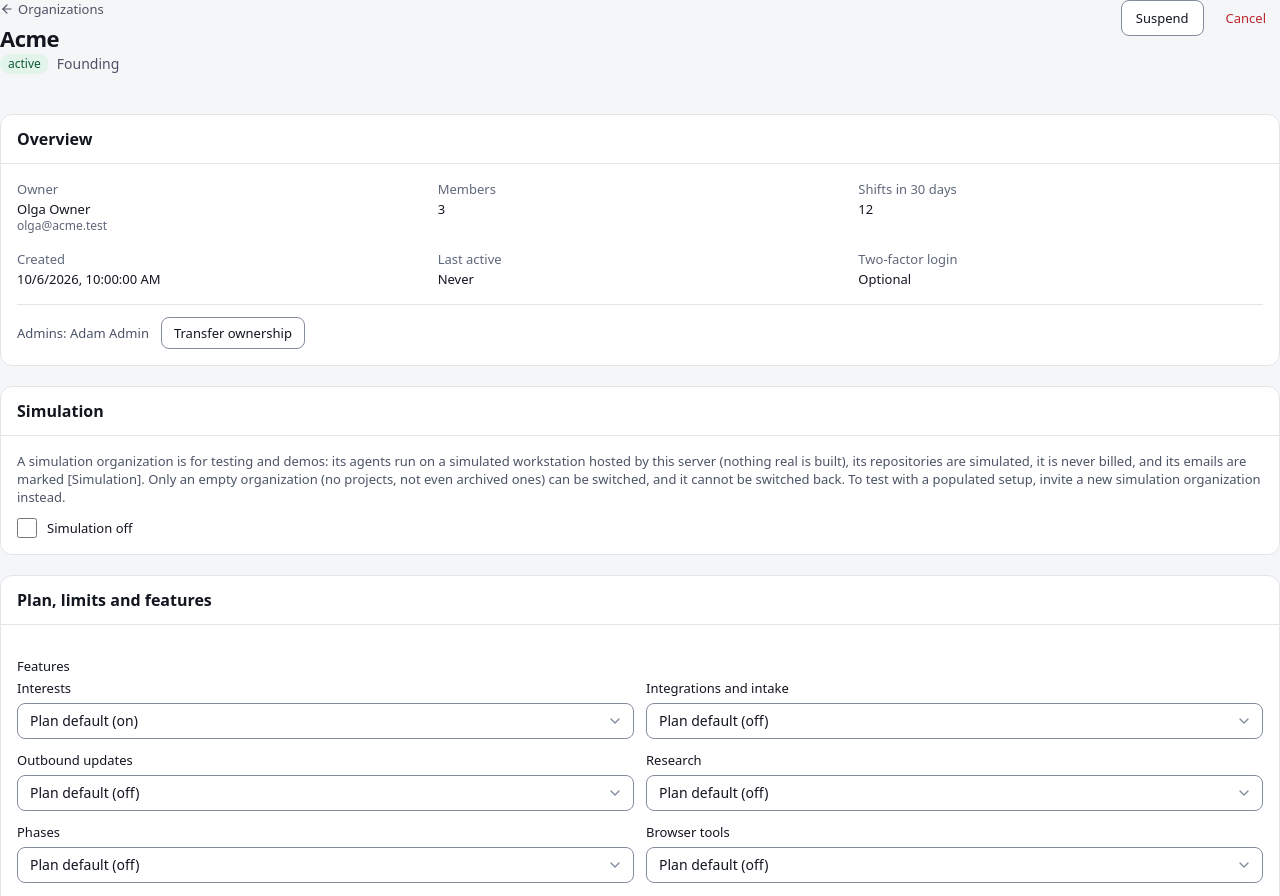
platform area › suspends an organization only with a reason
Step 1. Click the button "Suspend" → click(1162, 18), box x1=1121 y1=0 x2=1204 y2=36
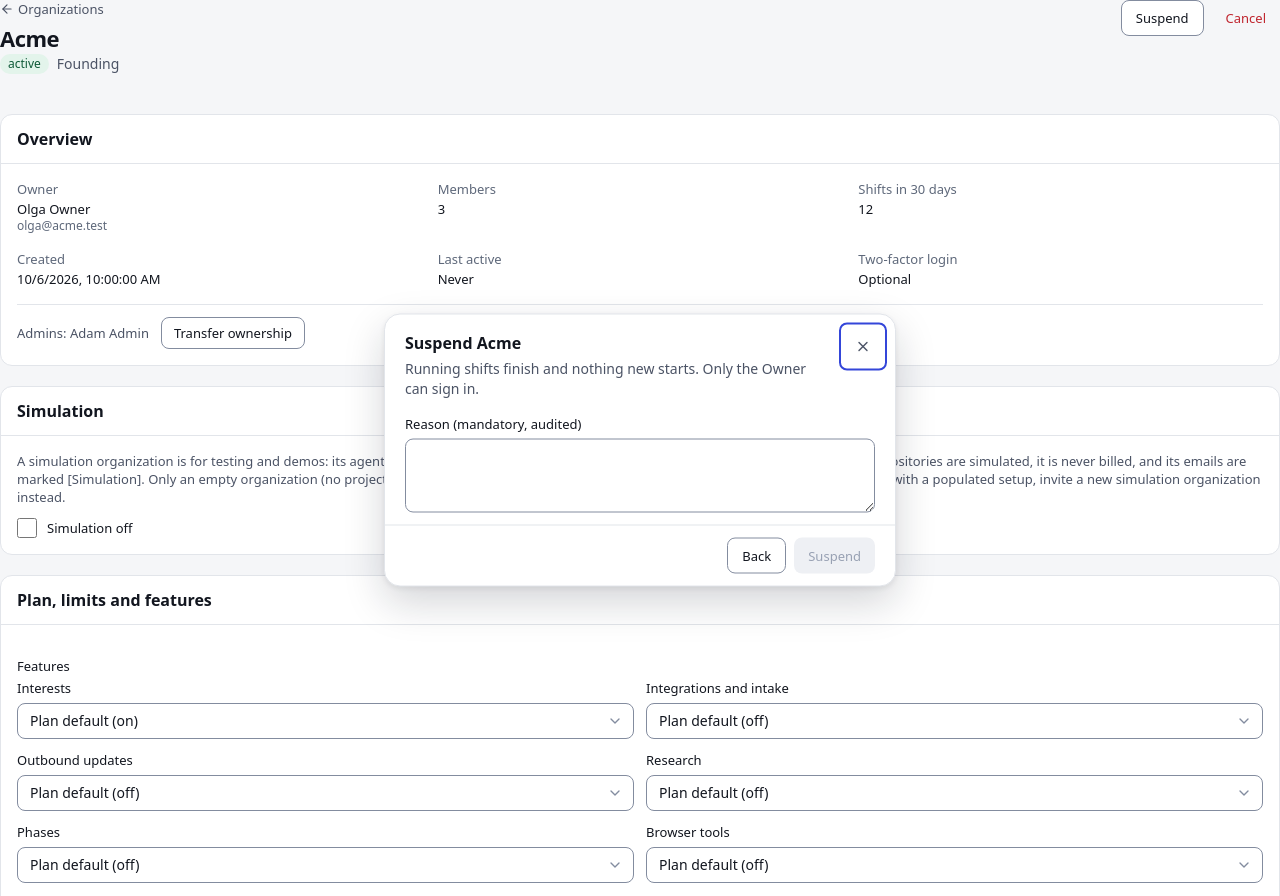
Now the button "Suspend" is disabled, box x1=794 y1=538 x2=875 y2=574
Step 2. Type "Invoice unpaid" into the text box labelled "Reason (mandatory, audited)" → (640, 476), box x1=405 y1=438 x2=875 y2=512
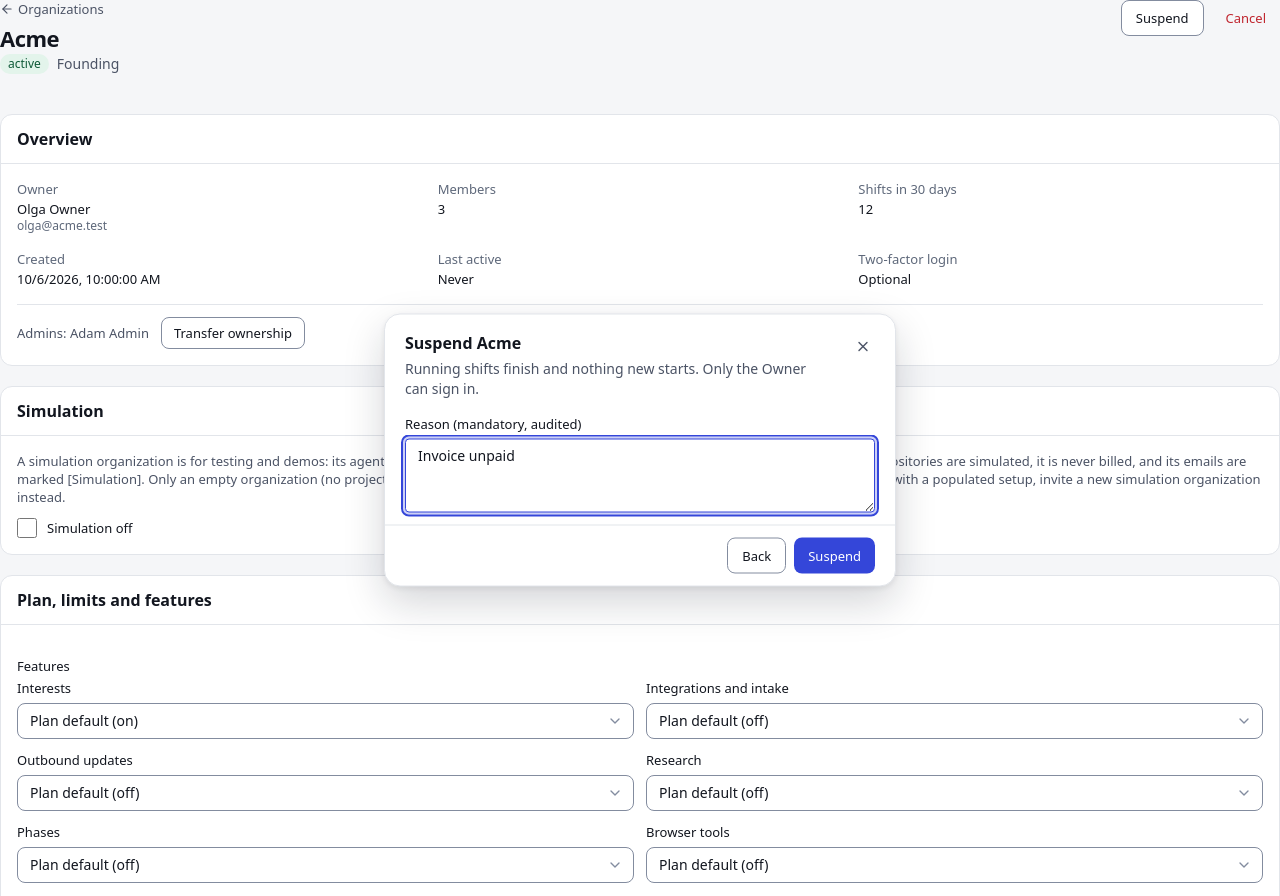
Step 3. Click the button "Suspend" → click(835, 556), box x1=794 y1=538 x2=875 y2=574
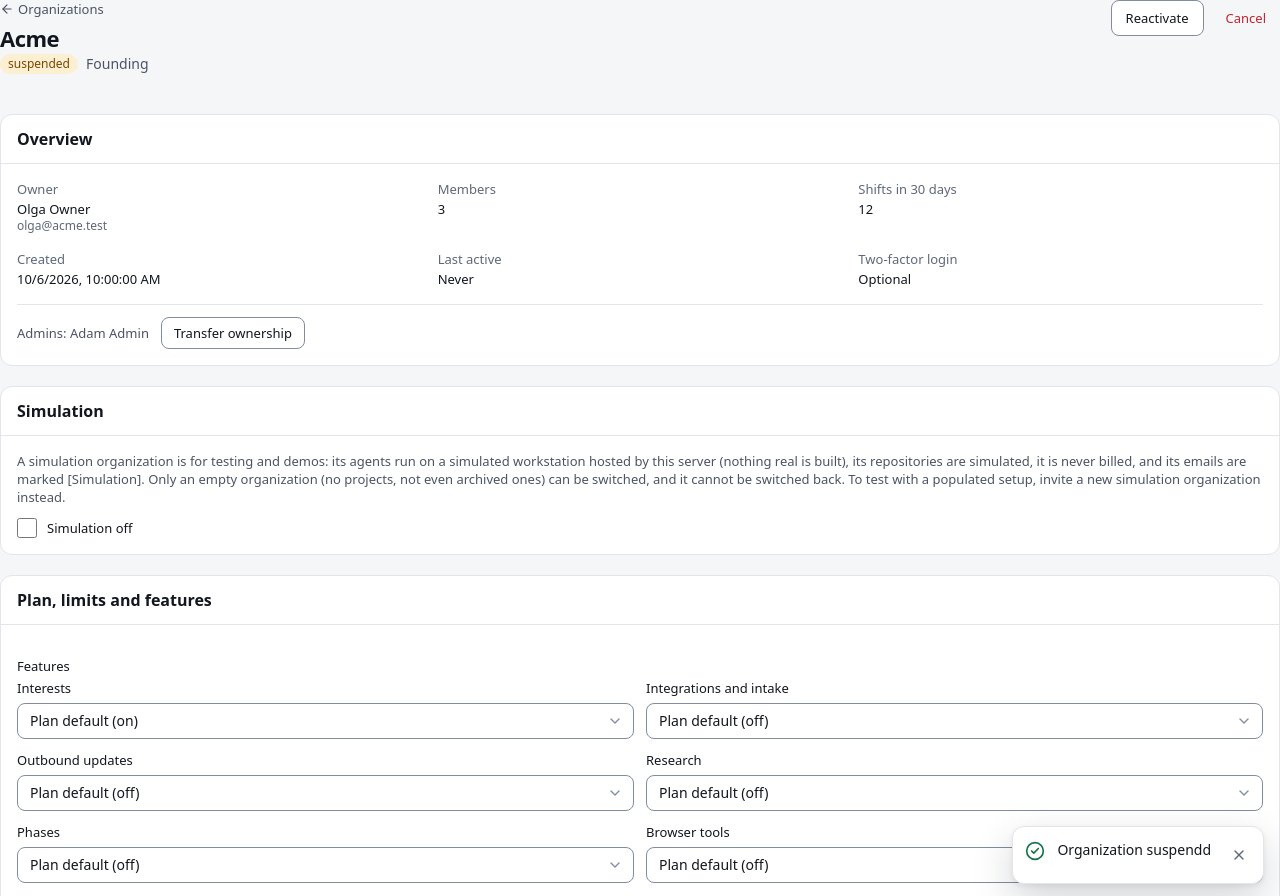
Now the button "Reactivate" is shown, box x1=1111 y1=0 x2=1204 y2=36
